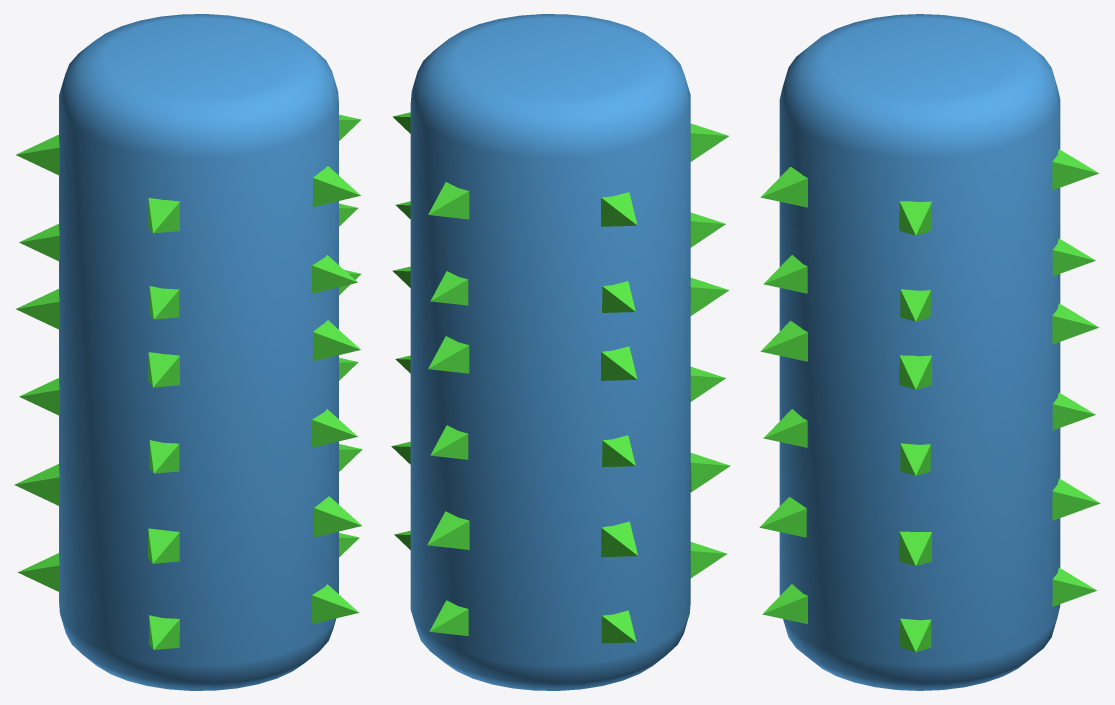
The model's file is obstacle16.fbx.
The picture shows the model from 3 angles, left to right: view 1: azimuth 30°, elevation 25°; view 2: azimuth 150°, elevation 25°; view 3: azimuth 270°, elevation 25°; orthographic projection.
Visible parts, largest first — view 1: obstacle16; view 2: obstacle16; view 3: obstacle16.
Part boxes in pixels (<box>): obstacle16: <box>14,14,362,690</box>; obstacle16: <box>391,14,730,690</box>; obstacle16: <box>759,14,1100,690</box>.
Bounding box in the file's own units: 30.94 × 58.42 × 30.73.
